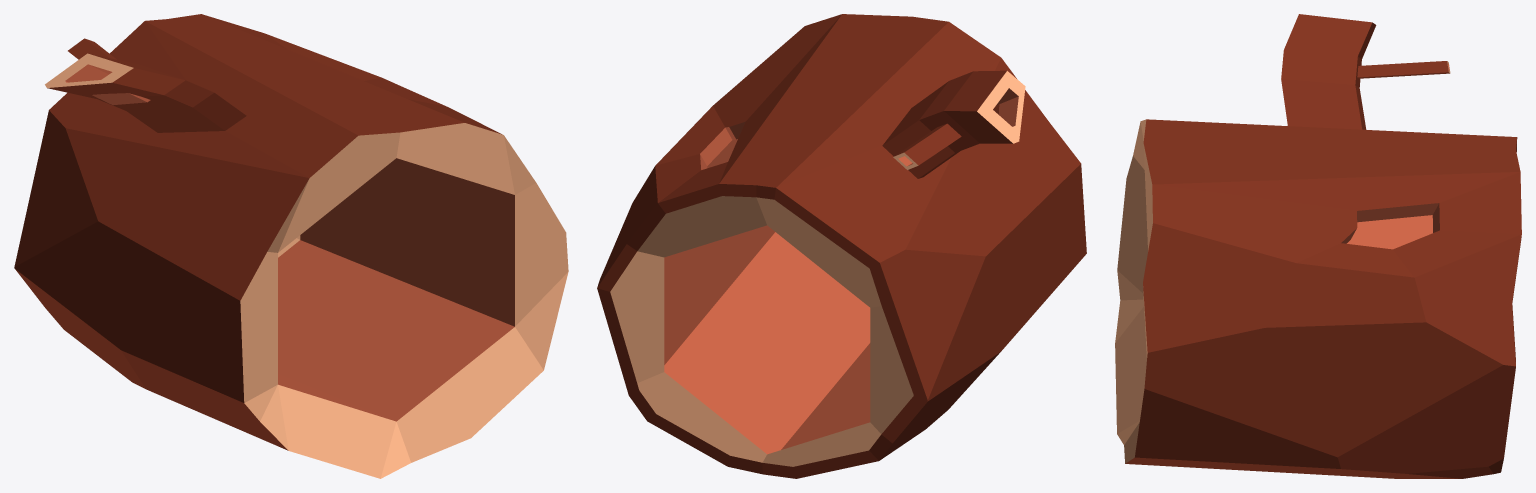
File: Stump 2.fbx
The picture shows the model from 3 angles, left to right: view 1: azimuth 30°, elevation 25°; view 2: azimuth 150°, elevation 25°; view 3: azimuth 270°, elevation 25°; orthographic projection. The views are drawn at different scales.
Parts seen in each view (by area): view 1: Stump 2; view 2: Stump 2; view 3: Stump 2.
Boxes of the visible parts, x1=… form: Stump 2: x1=14, y1=14, x2=568, y2=478; Stump 2: x1=597, y1=14, x2=1086, y2=478; Stump 2: x1=1115, y1=14, x2=1521, y2=478.
Size of the model in its own units: 146 by 138 by 137.
